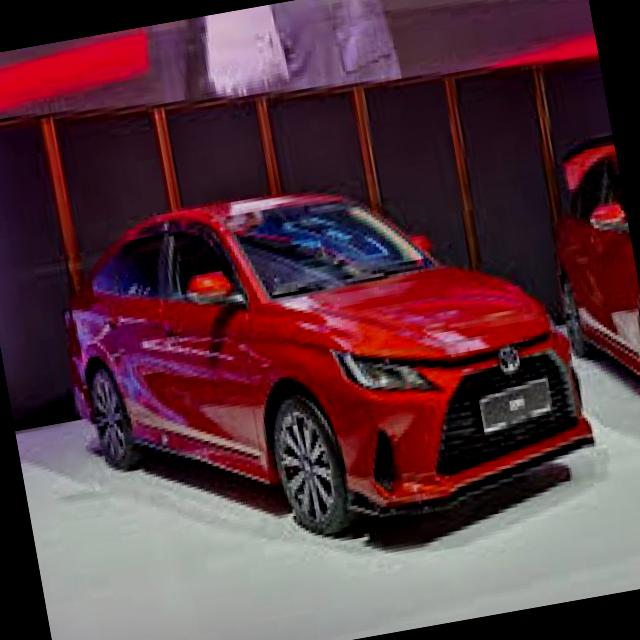ToyotaVios: (43, 142, 605, 578)
